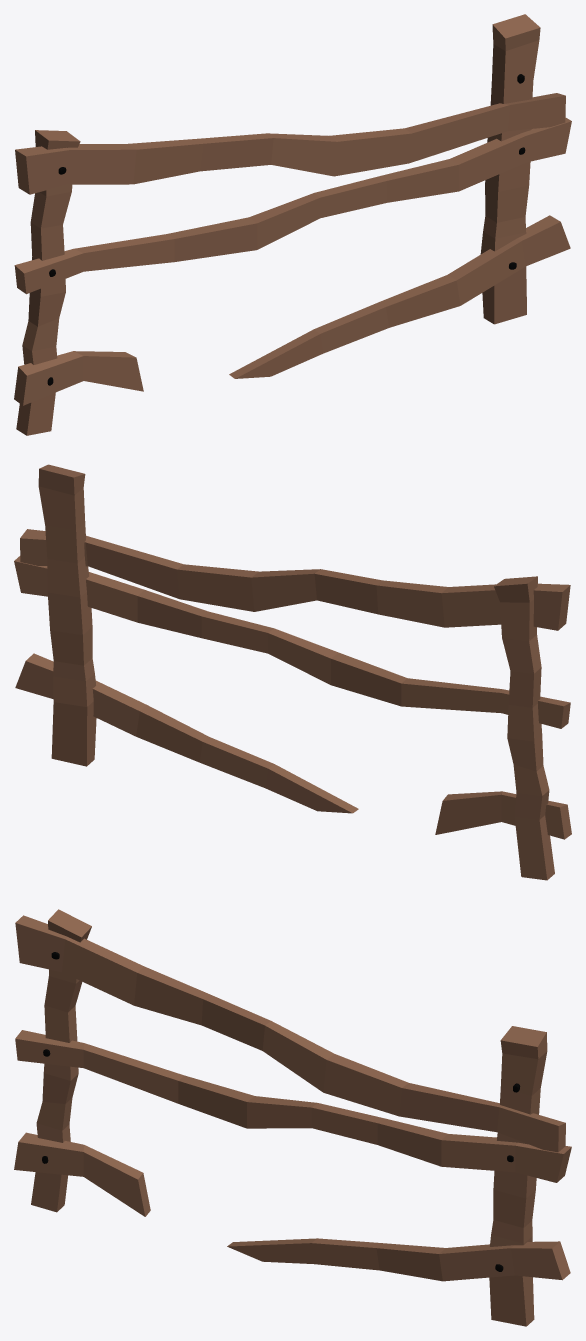
File: tahta çit 3.fbx
3 views of the same model, one above another, from view 1: azimuth 30°, elevation 25°; view 2: azimuth 150°, elevation 25°; view 3: azimuth 330°, elevation 25° (orthographic).
Visible parts, largest first — view 1: çit 3; view 2: çit 3; view 3: çit 3.
Part boxes in pixels (x1,y1,x2,y2): çit 3: (14, 14, 571, 435); çit 3: (14, 464, 571, 880); çit 3: (14, 909, 571, 1326).
Bounding box in the file's own units: 511 × 263 × 33.11.
